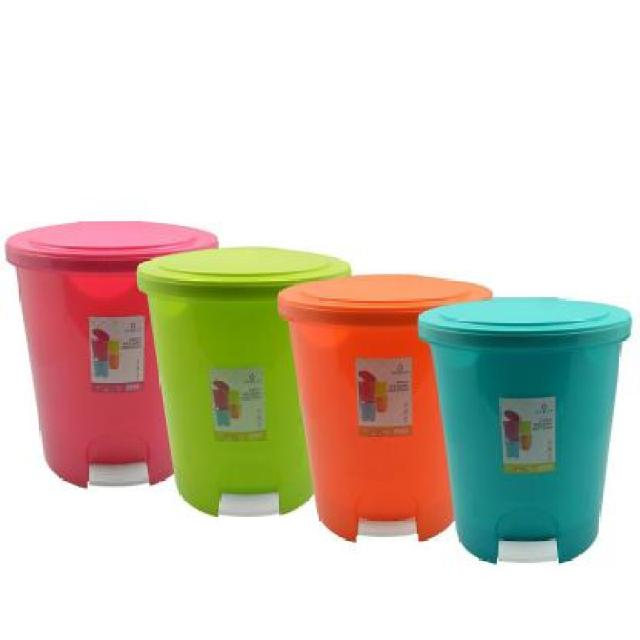garbage container: (128, 249, 358, 531), (422, 295, 632, 579), (274, 264, 460, 564), (0, 219, 179, 491)
